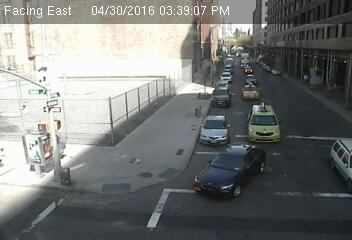neg: (19, 130, 58, 182), (2, 129, 39, 179), (133, 207, 151, 231), (182, 102, 196, 120), (187, 101, 200, 119)
